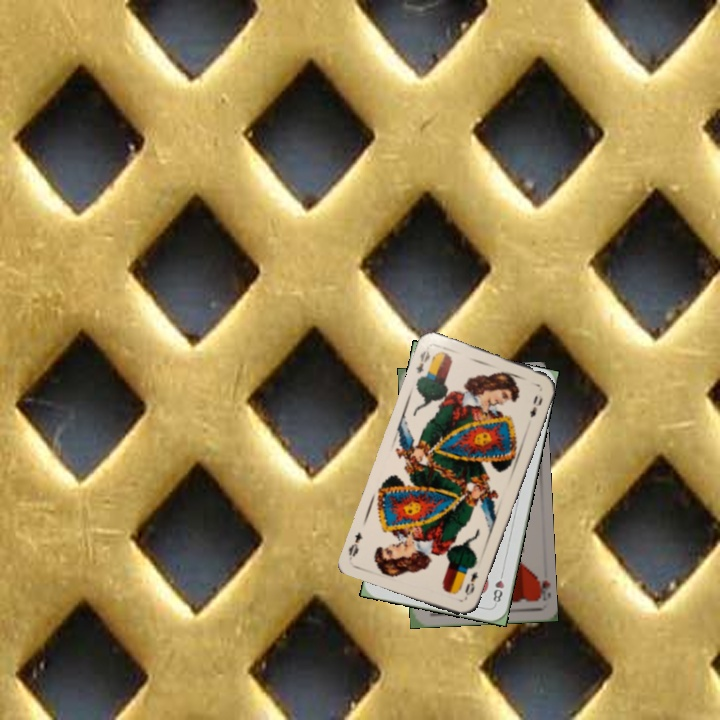EO: (461, 568, 481, 602), (412, 346, 433, 376)
H8: (489, 567, 507, 607)
HO: (532, 569, 552, 603)
